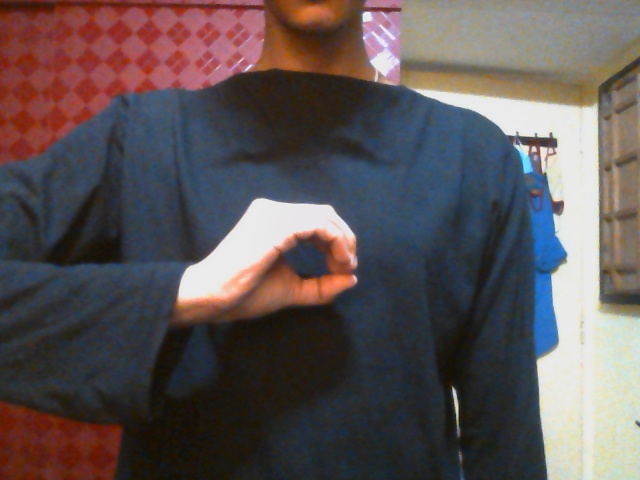O: (210, 197, 362, 329)
